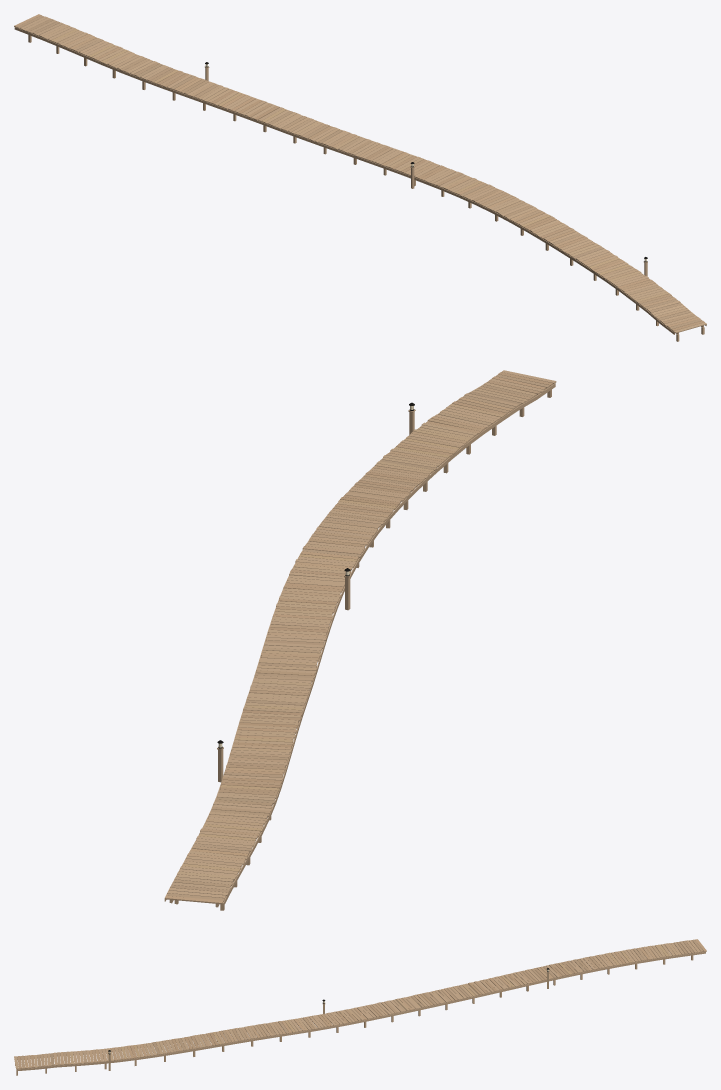
The model's file is boardwalk.glb.
The picture shows the model from 3 angles, top to bottom: view 1: azimuth 30°, elevation 25°; view 2: azimuth 150°, elevation 25°; view 3: azimuth 270°, elevation 25°; orthographic projection. The views are drawn at different scales.
Parts seen in each view (by area): view 1: Beach hut boardwalk; view 2: Beach hut boardwalk; view 3: Beach hut boardwalk.
Part boxes in pixels (x1,y1,x2,y2): Beach hut boardwalk: (14, 14, 706, 341); Beach hut boardwalk: (164, 370, 556, 910); Beach hut boardwalk: (14, 939, 706, 1075).
Size of the model in its own units: 14.22 by 3.25 by 42.5.
